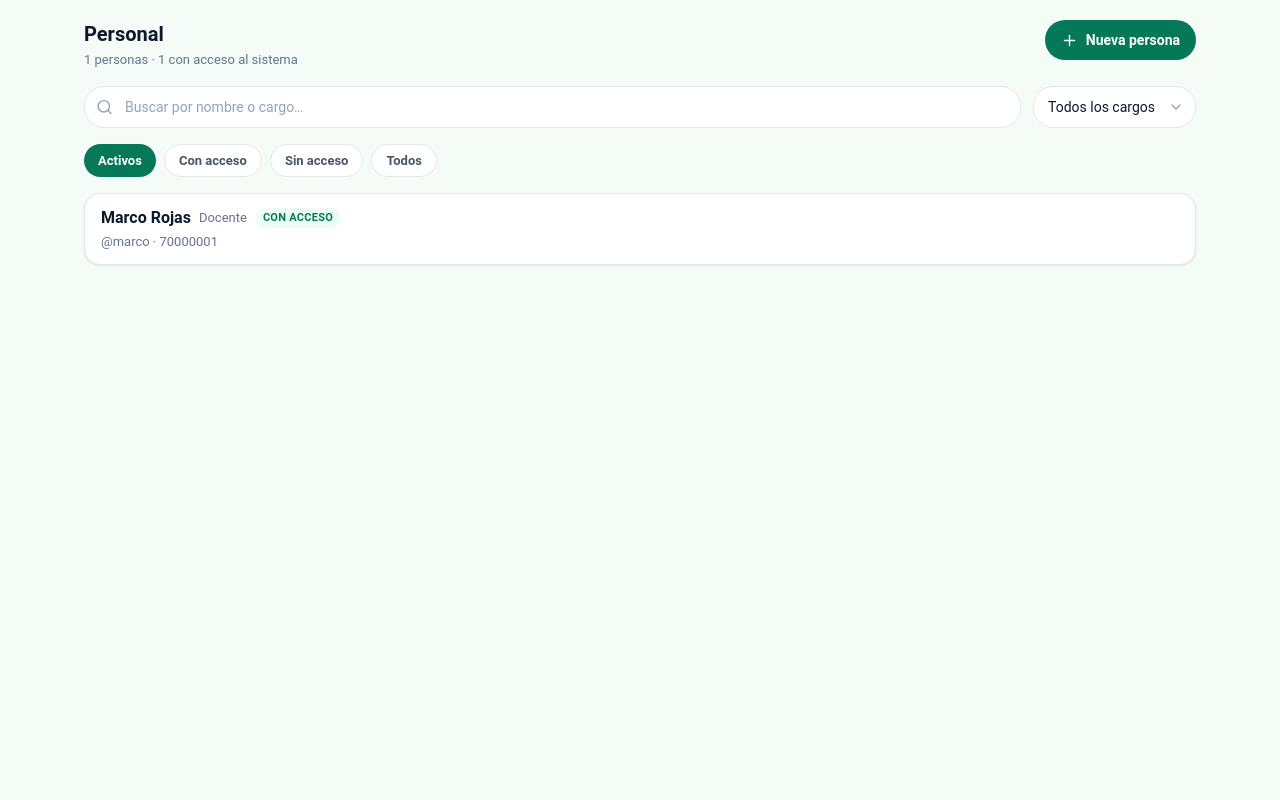
ronda 1 · U2 cosmético · el instituto no ve restos de la agenda de belleza › dar de baja y quitar acceso no hablan de agenda, citas ni comisiones
Click the button with aria-label "Ver Marco Rojas". click: (146, 218)
box: [85, 194, 1195, 264]
(page scrolled)
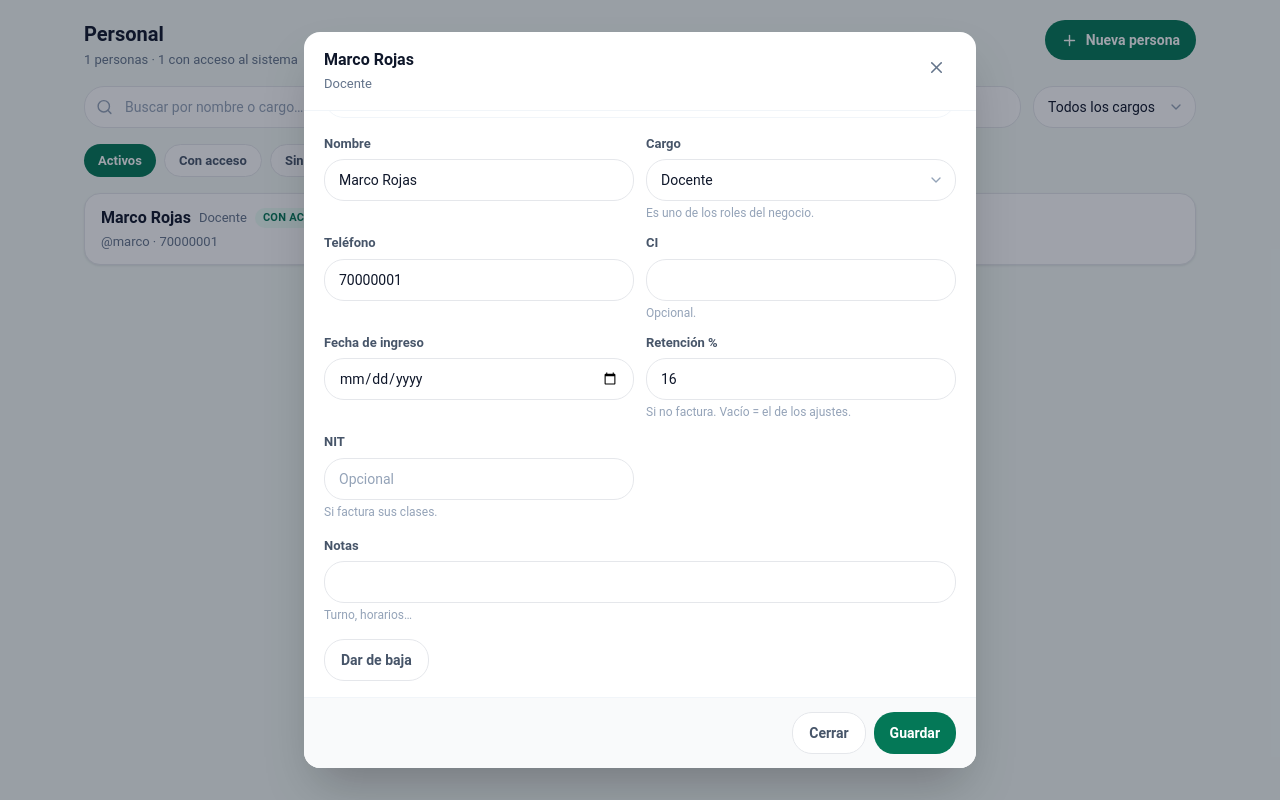
Expected: the dialog "Marco Rojas" does not show "agenda", [304, 32, 976, 768]
Click the button "Dar de baja". click: (376, 660)
box: [324, 639, 429, 681]
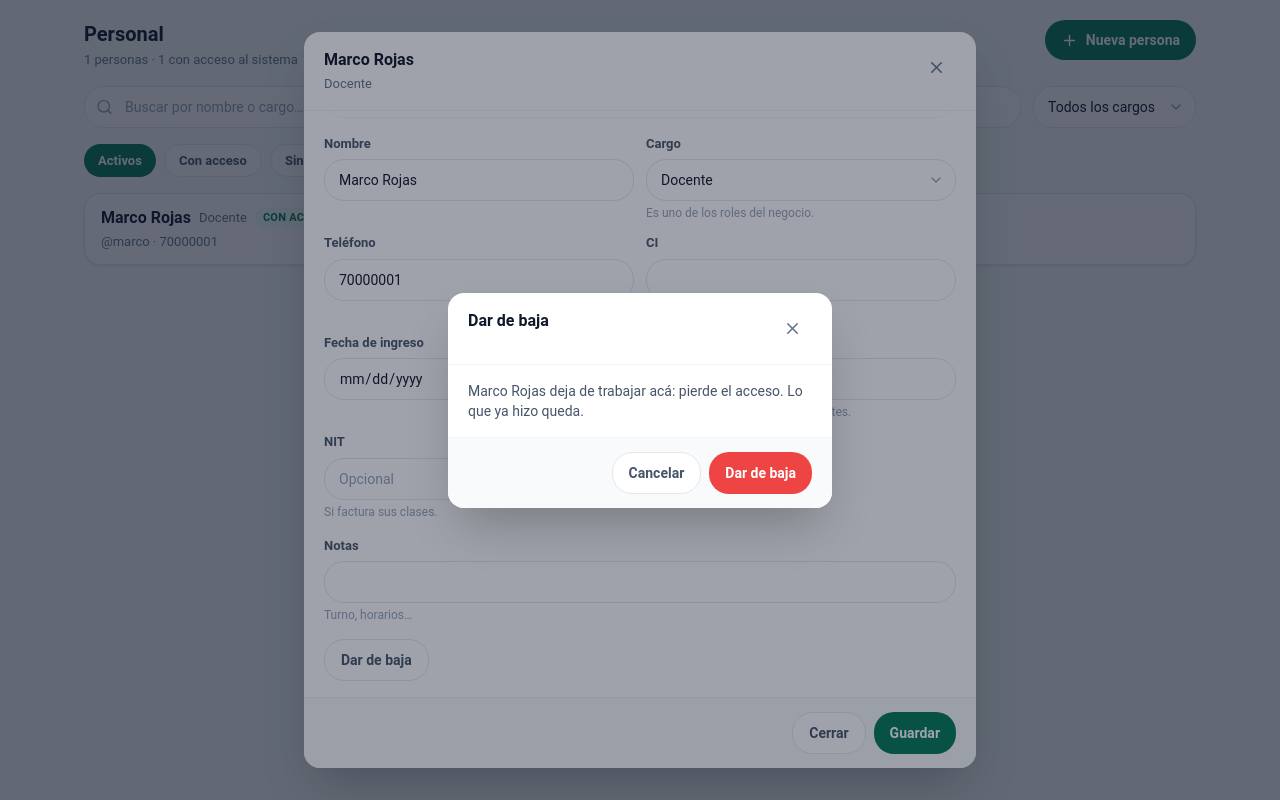
Expected: the dialog "Dar de baja" shows "deja de trabajar acá", [468, 382, 803, 418]
